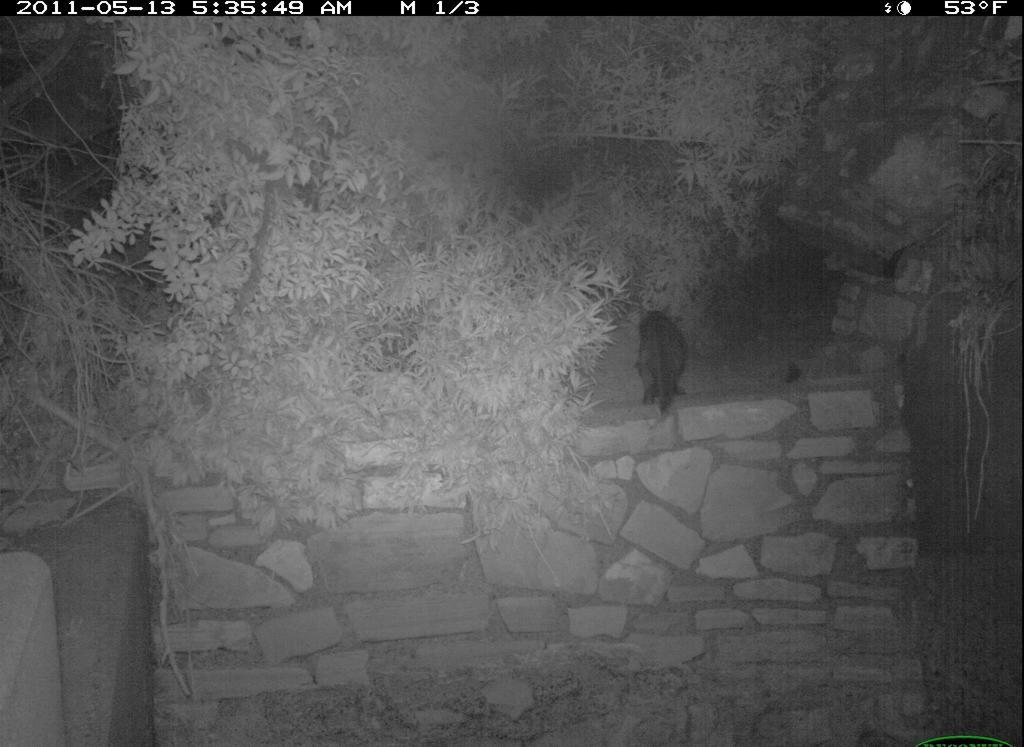cat: (628, 287, 708, 432)
